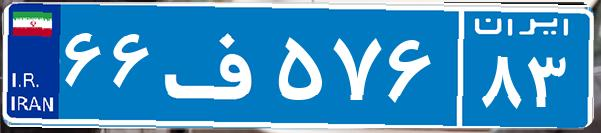3: (525, 38, 570, 115)
5: (273, 28, 330, 110)
6: (385, 28, 445, 110), (57, 26, 110, 107), (110, 28, 158, 105)
7: (330, 28, 385, 110)
8: (475, 38, 525, 113)
ف: (158, 15, 273, 115)
